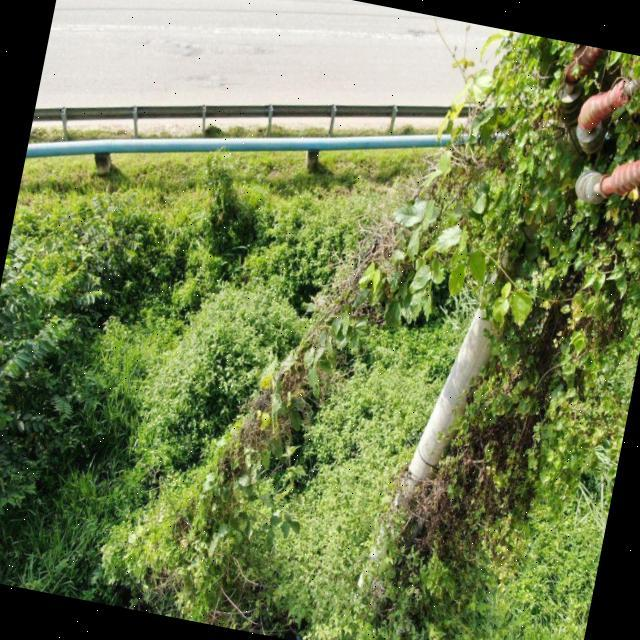critical vegetation: (385, 63, 640, 640), (184, 75, 473, 538)
